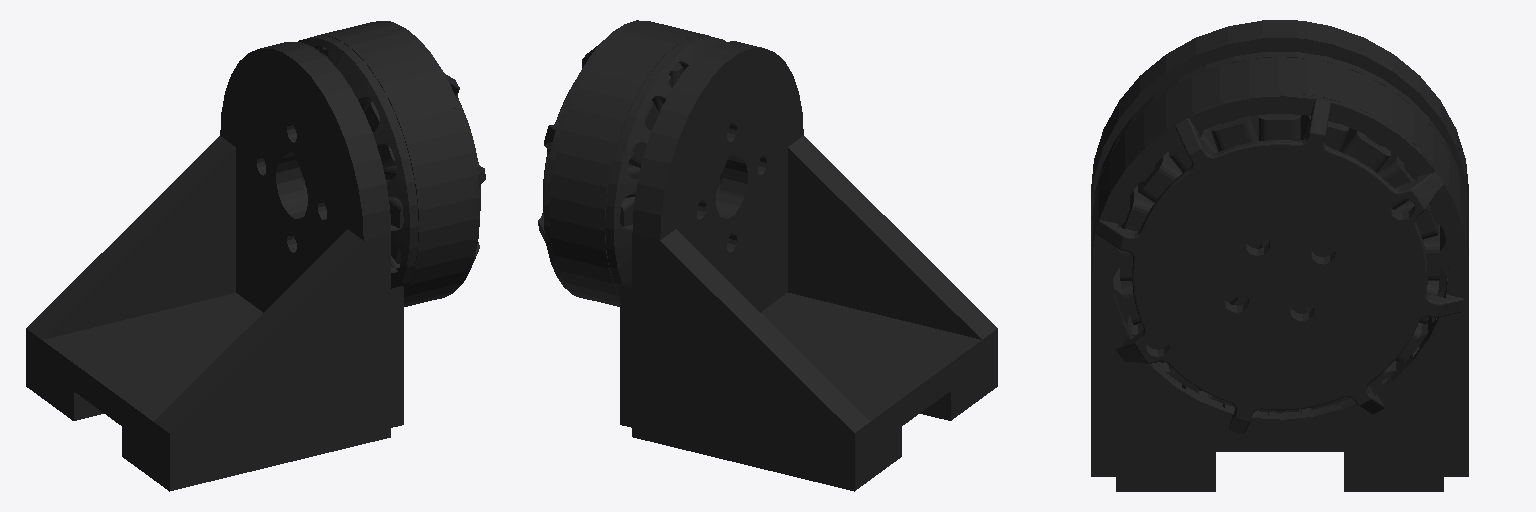
The robot description file, URDF, robot "allegro_hand_right":
<?xml version="1.0" ?>
<!-- =================================================================================== -->
<!-- |    This document was autogenerated by xacro from allegro_hand_description_right.xacro | -->
<!-- |    EDITING THIS FILE BY HAND IS NOT RECOMMENDED                                 | -->
<!-- =================================================================================== -->
<robot name="allegro_hand_right" xmlns:xacro="http://www.ros.org/wiki/xacro">
  <!-- ======================== BASE PARAMS ========================= -->
  <!-- ======================== FINGER PARAMS ======================== -->
  <!-- full height from joint to tip. when used,
    the radius of the finger tip sphere will be subtracted
    and one fixed link will be added for the tip. -->
  <!-- ========================= THUMB PARAMS ========================= -->
  <!-- ========================= LIMITS ========================= -->
  <!-- ============================================================================= -->
  <!-- PALM -->
  <link name="palm_link">
    <visual>
      <geometry>
        <mesh filename="package://example-robot-data/robots/allegro_hand_description/meshes/base_link.STL"/>
      </geometry>
      <origin rpy="0 0 0" xyz="0 0 0 "/>
      <material name="black">
        <color rgba="0.2 0.2 0.2 1"/>
      </material>
    </visual>
    <collision>
      <origin rpy="0 0 0" xyz="-0.009300 0 -0.0475"/>
      <geometry>
        <box size="0.0408 0.1130 0.095"/>
      </geometry>
    </collision>
    <inertial>
      <origin rpy="0 0 0" xyz="0 0 0.0475"/>
      <mass value="0.4154"/>
      <inertia ixx="1e-4" ixy="0.0" ixz="0.0" iyy="1e-4" iyz="0.0" izz="1e-4"/>
    </inertial>
  </link>
  <!-- ============================================================================= -->
  <!-- FINGERS -->
  <!-- RIGHT HAND due to which finger is number 0 -->
  <!-- for LEFT HAND switch the sign of the **offset_origin_y** and **finger_angle_r** parameters-->
  <!-- [LINK 0, 4, 8] -->
  <link name="link_0.0">
    <visual>
      <geometry>
        <mesh filename="package://example-robot-data/robots/allegro_hand_description/meshes/link_0.0.STL"/>
      </geometry>
      <material name="black"/>
    </visual>
    <collision>
      <geometry>
        <box size="0.0196 0.0275 0.0164"/>
      </geometry>
      <origin rpy="0 0 0" xyz="0 0 0.0082"/>
    </collision>
    <inertial>
      <mass value="0.0119"/>
      <origin rpy="0 0 0" xyz="0 0 0"/>
      <inertia ixx="1.01666658333e-06" ixy="0.0" ixz="0.0" iyy="6.47677333333e-07" iyz="0.0" izz="1.01666658333e-06"/>
    </inertial>
  </link>
  <joint name="joint_0.0" type="revolute">
    <axis xyz="0 0 1"/>
    <limit effort="15" lower="-0.47" upper="0.47" velocity="7"/>
    <parent link="palm_link"/>
    <child link="link_0.0"/>
    <origin rpy="-0.08726646255 0 0" xyz="0 0.0435 -0.001542"/>
    <dynamics damping="3" friction="10"/>
  </joint>
  <!-- [LINK 1, 5, 9] -->
  <link name="link_1.0">
    <visual>
      <geometry>
        <mesh filename="package://example-robot-data/robots/allegro_hand_description/meshes/link_1.0.STL"/>
      </geometry>
      <material name="black"/>
    </visual>
    <collision>
      <geometry>
        <box size="0.0196 0.0275 0.054"/>
      </geometry>
      <origin rpy="0 0 0" xyz="0 0 0.027"/>
    </collision>
    <inertial>
      <mass value="0.065"/>
      <origin rpy="0 0 0" xyz="0 0 0"/>
      <inertia ixx="7.95654166667e-05" ixy="1.7199e-05" ixz="8.75875e-06" iyy="2.47088833333e-05" iyz="2.413125e-05" izz="7.95654166667e-05"/>
    </inertial>
  </link>
  <joint name="joint_1.0" type="revolute">
    <limit effort="15" lower="-0.196" upper="1.61" velocity="7"/>
    <axis xyz="0 1 0"/>
    <parent link="link_0.0"/>
    <child link="link_1.0"/>
    <origin xyz="0 0 0.0164"/>
    <dynamics damping="3" friction="5"/>
  </joint>
  <!-- [LINK 2, 6, 10]-->
  <link name="link_2.0">
    <visual>
      <geometry>
        <mesh filename="package://example-robot-data/robots/allegro_hand_description/meshes/link_2.0.STL"/>
      </geometry>
      <material name="black"/>
    </visual>
    <collision>
      <geometry>
        <box size="0.0196 0.0275 0.0384"/>
      </geometry>
      <origin rpy="0 0 0" xyz="0 0 0.0192"/>
    </collision>
    <inertial>
      <mass value="0.0355"/>
      <origin rpy="0 0 0" xyz="0 0 0"/>
      <inertia ixx="2.63979183333e-05" ixy="6.67968e-06" ixz="4.783625e-06" iyy="1.34948516667e-05" iyz="9.372e-06" izz="2.63979183333e-05"/>
    </inertial>
  </link>
  <joint name="joint_2.0" type="revolute">
    <axis xyz="0 1 0"/>
    <limit effort="15" lower="-0.174" upper="1.709" velocity="7"/>
    <parent link="link_1.0"/>
    <child link="link_2.0"/>
    <origin xyz="0 0 0.054"/>
    <dynamics damping="8" friction="10"/>
  </joint>
  <!-- [LINK 3, 7, 11] -->
  <link name="link_3.0">
    <visual>
      <geometry>
        <mesh filename="package://example-robot-data/robots/allegro_hand_description/meshes/link_3.0.STL"/>
      </geometry>
      <material name="black"/>
    </visual>
    <collision>
      <geometry>
        <box size="0.0196 0.0275 0.0267"/>
      </geometry>
      <origin rpy="0 0 0" xyz="0 0 0.01335"/>
    </collision>
    <inertial>
      <mass value="0.0096"/>
      <origin rpy="0 0 0" xyz="0 0 0"/>
      <inertia ixx="4.701248e-06" ixy="1.255968e-06" ixz="1.2936e-06" iyy="3.649312e-06" iyz="1.7622e-06" izz="4.701248e-06"/>
    </inertial>
  </link>
  <joint name="joint_3.0" type="revolute">
    <axis xyz="0 1 0"/>
    <limit effort="15" lower="-0.227" upper="1.618" velocity="7"/>
    <parent link="link_2.0"/>
    <child link="link_3.0"/>
    <origin xyz="0 0 0.0384"/>
    <dynamics damping="10" friction="12"/>
  </joint>
  <!-- [FINGER TIP] -->
  <link name="link_3.0_tip">
    <visual>
      <geometry>
        <mesh filename="package://example-robot-data/robots/allegro_hand_description/meshes/link_3.0_tip.STL"/>
      </geometry>
      <material name="white">
        <color rgba=".9 .9 .9 1"/>
      </material>
    </visual>
    <collision>
      <geometry>
        <sphere radius="0.012"/>
      </geometry>
    </collision>
    <inertial>
      <mass value="0.0168"/>
      <origin rpy="0 0 0" xyz="0 0 0"/>
      <inertia ixx="9.68e-07" ixy="0" ixz="0" iyy="9.68e-07" iyz="0" izz="9.68e-07"/>
    </inertial>
  </link>
  <joint name="joint_3.0_tip" type="fixed">
    <parent link="link_3.0"/>
    <child link="link_3.0_tip"/>
    <origin rpy="0 0 0" xyz="0 0 0.0267"/>
  </joint>
  <!-- [LINK 0, 4, 8] -->
  <link name="link_4.0">
    <visual>
      <geometry>
        <mesh filename="package://example-robot-data/robots/allegro_hand_description/meshes/link_0.0.STL"/>
      </geometry>
      <material name="black"/>
    </visual>
    <collision>
      <geometry>
        <box size="0.0196 0.0275 0.0164"/>
      </geometry>
      <origin rpy="0 0 0" xyz="0 0 0.0082"/>
    </collision>
    <inertial>
      <mass value="0.0119"/>
      <origin rpy="0 0 0" xyz="0 0 0"/>
      <inertia ixx="1.01666658333e-06" ixy="0.0" ixz="0.0" iyy="6.47677333333e-07" iyz="0.0" izz="1.01666658333e-06"/>
    </inertial>
  </link>
  <joint name="joint_4.0" type="revolute">
    <axis xyz="0 0 1"/>
    <limit effort="15" lower="-0.47" upper="0.47" velocity="7"/>
    <parent link="palm_link"/>
    <child link="link_4.0"/>
    <origin rpy="0.0 0 0" xyz="0 0 0.0007"/>
    <dynamics damping="3" friction="10"/>
  </joint>
  <!-- [LINK 1, 5, 9] -->
  <link name="link_5.0">
    <visual>
      <geometry>
        <mesh filename="package://example-robot-data/robots/allegro_hand_description/meshes/link_1.0.STL"/>
      </geometry>
      <material name="black"/>
    </visual>
    <collision>
      <geometry>
        <box size="0.0196 0.0275 0.054"/>
      </geometry>
      <origin rpy="0 0 0" xyz="0 0 0.027"/>
    </collision>
    <inertial>
      <mass value="0.065"/>
      <origin rpy="0 0 0" xyz="0 0 0"/>
      <inertia ixx="7.95654166667e-05" ixy="1.7199e-05" ixz="8.75875e-06" iyy="2.47088833333e-05" iyz="2.413125e-05" izz="7.95654166667e-05"/>
    </inertial>
  </link>
  <joint name="joint_5.0" type="revolute">
    <limit effort="15" lower="-0.196" upper="1.61" velocity="7"/>
    <axis xyz="0 1 0"/>
    <parent link="link_4.0"/>
    <child link="link_5.0"/>
    <origin xyz="0 0 0.0164"/>
    <dynamics damping="3" friction="5"/>
  </joint>
  <!-- [LINK 2, 6, 10]-->
  <link name="link_6.0">
    <visual>
      <geometry>
        <mesh filename="package://example-robot-data/robots/allegro_hand_description/meshes/link_2.0.STL"/>
      </geometry>
      <material name="black"/>
    </visual>
    <collision>
      <geometry>
        <box size="0.0196 0.0275 0.0384"/>
      </geometry>
      <origin rpy="0 0 0" xyz="0 0 0.0192"/>
    </collision>
    <inertial>
      <mass value="0.0355"/>
      <origin rpy="0 0 0" xyz="0 0 0"/>
      <inertia ixx="2.63979183333e-05" ixy="6.67968e-06" ixz="4.783625e-06" iyy="1.34948516667e-05" iyz="9.372e-06" izz="2.63979183333e-05"/>
    </inertial>
  </link>
  <joint name="joint_6.0" type="revolute">
    <axis xyz="0 1 0"/>
    <limit effort="15" lower="-0.174" upper="1.709" velocity="7"/>
    <parent link="link_5.0"/>
    <child link="link_6.0"/>
    <origin xyz="0 0 0.054"/>
    <dynamics damping="8" friction="10"/>
  </joint>
  <!-- [LINK 3, 7, 11] -->
  <link name="link_7.0">
    <visual>
      <geometry>
        <mesh filename="package://example-robot-data/robots/allegro_hand_description/meshes/link_3.0.STL"/>
      </geometry>
      <material name="black"/>
    </visual>
    <collision>
      <geometry>
        <box size="0.0196 0.0275 0.0267"/>
      </geometry>
      <origin rpy="0 0 0" xyz="0 0 0.01335"/>
    </collision>
    <inertial>
      <mass value="0.0096"/>
      <origin rpy="0 0 0" xyz="0 0 0"/>
      <inertia ixx="4.701248e-06" ixy="1.255968e-06" ixz="1.2936e-06" iyy="3.649312e-06" iyz="1.7622e-06" izz="4.701248e-06"/>
    </inertial>
  </link>
  <joint name="joint_7.0" type="revolute">
    <axis xyz="0 1 0"/>
    <limit effort="15" lower="-0.227" upper="1.618" velocity="7"/>
    <parent link="link_6.0"/>
    <child link="link_7.0"/>
    <origin xyz="0 0 0.0384"/>
    <dynamics damping="10" friction="12"/>
  </joint>
  <!-- [FINGER TIP] -->
  <link name="link_7.0_tip">
    <visual>
      <geometry>
        <mesh filename="package://example-robot-data/robots/allegro_hand_description/meshes/link_3.0_tip.STL"/>
      </geometry>
      <material name="white">
        <color rgba=".9 .9 .9 1"/>
      </material>
    </visual>
    <collision>
      <geometry>
        <sphere radius="0.012"/>
      </geometry>
    </collision>
    <inertial>
      <mass value="0.0168"/>
      <origin rpy="0 0 0" xyz="0 0 0"/>
      <inertia ixx="9.68e-07" ixy="0" ixz="0" iyy="9.68e-07" iyz="0" izz="9.68e-07"/>
    </inertial>
  </link>
  <joint name="joint_7.0_tip" type="fixed">
    <parent link="link_7.0"/>
    <child link="link_7.0_tip"/>
    <origin rpy="0 0 0" xyz="0 0 0.0267"/>
  </joint>
  <!-- [LINK 0, 4, 8] -->
  <link name="link_8.0">
    <visual>
      <geometry>
        <mesh filename="package://example-robot-data/robots/allegro_hand_description/meshes/link_0.0.STL"/>
      </geometry>
      <material name="black"/>
    </visual>
    <collision>
      <geometry>
        <box size="0.0196 0.0275 0.0164"/>
      </geometry>
      <origin rpy="0 0 0" xyz="0 0 0.0082"/>
    </collision>
    <inertial>
      <mass value="0.0119"/>
      <origin rpy="0 0 0" xyz="0 0 0"/>
      <inertia ixx="1.01666658333e-06" ixy="0.0" ixz="0.0" iyy="6.47677333333e-07" iyz="0.0" izz="1.01666658333e-06"/>
    </inertial>
  </link>
  <joint name="joint_8.0" type="revolute">
    <axis xyz="0 0 1"/>
    <limit effort="15" lower="-0.47" upper="0.47" velocity="7"/>
    <parent link="palm_link"/>
    <child link="link_8.0"/>
    <origin rpy="0.08726646255 0 0" xyz="0 -0.0435 -0.001542"/>
    <dynamics damping="3" friction="10"/>
  </joint>
  <!-- [LINK 1, 5, 9] -->
  <link name="link_9.0">
    <visual>
      <geometry>
        <mesh filename="package://example-robot-data/robots/allegro_hand_description/meshes/link_1.0.STL"/>
      </geometry>
      <material name="black"/>
    </visual>
    <collision>
      <geometry>
        <box size="0.0196 0.0275 0.054"/>
      </geometry>
      <origin rpy="0 0 0" xyz="0 0 0.027"/>
    </collision>
    <inertial>
      <mass value="0.065"/>
      <origin rpy="0 0 0" xyz="0 0 0"/>
      <inertia ixx="7.95654166667e-05" ixy="1.7199e-05" ixz="8.75875e-06" iyy="2.47088833333e-05" iyz="2.413125e-05" izz="7.95654166667e-05"/>
    </inertial>
  </link>
  <joint name="joint_9.0" type="revolute">
    <limit effort="15" lower="-0.196" upper="1.61" velocity="7"/>
    <axis xyz="0 1 0"/>
    <parent link="link_8.0"/>
    <child link="link_9.0"/>
    <origin xyz="0 0 0.0164"/>
    <dynamics damping="3" friction="5"/>
  </joint>
  <!-- [LINK 2, 6, 10]-->
  <link name="link_10.0">
    <visual>
      <geometry>
        <mesh filename="package://example-robot-data/robots/allegro_hand_description/meshes/link_2.0.STL"/>
      </geometry>
      <material name="black"/>
    </visual>
    <collision>
      <geometry>
        <box size="0.0196 0.0275 0.0384"/>
      </geometry>
      <origin rpy="0 0 0" xyz="0 0 0.0192"/>
    </collision>
    <inertial>
      <mass value="0.0355"/>
      <origin rpy="0 0 0" xyz="0 0 0"/>
      <inertia ixx="2.63979183333e-05" ixy="6.67968e-06" ixz="4.783625e-06" iyy="1.34948516667e-05" iyz="9.372e-06" izz="2.63979183333e-05"/>
    </inertial>
  </link>
  <joint name="joint_10.0" type="revolute">
    <axis xyz="0 1 0"/>
    <limit effort="15" lower="-0.174" upper="1.709" velocity="7"/>
    <parent link="link_9.0"/>
    <child link="link_10.0"/>
    <origin xyz="0 0 0.054"/>
    <dynamics damping="8" friction="10"/>
  </joint>
  <!-- [LINK 3, 7, 11] -->
  <link name="link_11.0">
    <visual>
      <geometry>
        <mesh filename="package://example-robot-data/robots/allegro_hand_description/meshes/link_3.0.STL"/>
      </geometry>
      <material name="black"/>
    </visual>
    <collision>
      <geometry>
        <box size="0.0196 0.0275 0.0267"/>
      </geometry>
      <origin rpy="0 0 0" xyz="0 0 0.01335"/>
    </collision>
    <inertial>
      <mass value="0.0096"/>
      <origin rpy="0 0 0" xyz="0 0 0"/>
      <inertia ixx="4.701248e-06" ixy="1.255968e-06" ixz="1.2936e-06" iyy="3.649312e-06" iyz="1.7622e-06" izz="4.701248e-06"/>
    </inertial>
  </link>
  <joint name="joint_11.0" type="revolute">
    <axis xyz="0 1 0"/>
    <limit effort="15" lower="-0.227" upper="1.618" velocity="7"/>
    <parent link="link_10.0"/>
    <child link="link_11.0"/>
    <origin xyz="0 0 0.0384"/>
    <dynamics damping="10" friction="12"/>
  </joint>
  <!-- [FINGER TIP] -->
  <link name="link_11.0_tip">
    <visual>
      <geometry>
        <mesh filename="package://example-robot-data/robots/allegro_hand_description/meshes/link_3.0_tip.STL"/>
      </geometry>
      <material name="white">
        <color rgba=".9 .9 .9 1"/>
      </material>
    </visual>
    <collision>
      <geometry>
        <sphere radius="0.012"/>
      </geometry>
    </collision>
    <inertial>
      <mass value="0.0168"/>
      <origin rpy="0 0 0" xyz="0 0 0"/>
      <inertia ixx="9.68e-07" ixy="0" ixz="0" iyy="9.68e-07" iyz="0" izz="9.68e-07"/>
    </inertial>
  </link>
  <joint name="joint_11.0_tip" type="fixed">
    <parent link="link_11.0"/>
    <child link="link_11.0_tip"/>
    <origin rpy="0 0 0" xyz="0 0 0.0267"/>
  </joint>
  <!-- THUMB -->
  <!-- [LINK 12] -->
  <link name="link_12.0">
    <visual>
      <geometry>
        <mesh filename="package://example-robot-data/robots/allegro_hand_description/meshes/link_12.0_right.STL"/>
      </geometry>
      <material name="black">
        <color rgba=".2 .2 .2 1"/>
      </material>
      <origin rpy="3.1415926518 0 0" xyz="0 0 0"/>
    </visual>
    <collision>
      <geometry>
        <box size="0.0358 0.034 0.0455"/>
      </geometry>
      <origin rpy="0 0 0" xyz="-0.0179 0.009 0.0145"/>
    </collision>
    <inertial>
      <mass value="0.0176"/>
      <origin rpy="0 0 0" xyz="0 0 0"/>
      <inertia ixx="1.89273333333e-5" ixy="7.16716e-06" ixz="5.35568e-06" iyy="1.43008213333e-05" iyz="6.8068e-06" izz="1.89273333333e-05"/>
    </inertial>
  </link>
  <joint name="joint_12.0" type="revolute">
    <axis xyz="-1 0 0"/>
    <limit effort="15" lower="0.263" upper="1.396" velocity="7"/>
    <parent link="palm_link"/>
    <child link="link_12.0"/>
    <origin rpy="0 -1.65806278845 -1.5707963259" xyz="-0.0182 0.019333 -0.045987"/>
    <dynamics damping="3" friction="10"/>
  </joint>
  <!-- [LINK 13] -->
  <link name="link_13.0">
    <visual>
      <geometry>
        <mesh filename="package://example-robot-data/robots/allegro_hand_description/meshes/link_13.0.STL"/>
      </geometry>
      <material name="black">
        <color rgba=".2 .2 .2 1"/>
      </material>
    </visual>
    <collision>
      <geometry>
        <box size="0.0196 0.0275 0.0177"/>
      </geometry>
      <origin rpy="0 0 0" xyz="0 0 0.00885"/>
    </collision>
    <inertial>
      <mass value="0.0119"/>
      <origin rpy="0 0 0" xyz="0 0 0"/>
      <inertia ixx="4.24250866667e-06" ixy="1.032087e-06" ixz="1.603525e-06" iyy="4.52362633333e-06" iyz="1.44808125e-06" izz="4.24250866667e-06"/>
    </inertial>
  </link>
  <joint name="joint_13.0" type="revolute">
    <axis xyz="0 0 1"/>
    <limit effort="15" lower="-0.105" upper="1.163" velocity="7"/>
    <parent link="link_12.0"/>
    <child link="link_13.0"/>
    <origin xyz="-0.027 0.005 0.0399"/>
    <dynamics damping="3" friction="5"/>
  </joint>
  <!-- [LINK 14] -->
  <link name="link_14.0">
    <visual>
      <geometry>
        <mesh filename="package://example-robot-data/robots/allegro_hand_description/meshes/link_14.0.STL"/>
      </geometry>
      <material name="black">
                </material>
    </visual>
    <collision>
      <geometry>
        <box size="0.0196 0.0275 0.0514"/>
      </geometry>
      <origin rpy="0 0 0" xyz="0 0 0.0257"/>
    </collision>
    <inertial>
      <mass value="0.038"/>
      <origin rpy="0 0 0" xyz="0 0 0"/>
      <inertia ixx="4.30439933333e-05" ixy="9.57068e-06" ixz="5.1205e-06" iyy="1.44451933333e-05" iyz="1.342825e-05" izz="4.30439933333e-05"/>
    </inertial>
  </link>
  <joint name="joint_14.0" type="revolute">
    <axis xyz="0 1 0"/>
    <limit effort="15" lower="-0.189" upper="1.644" velocity="7"/>
    <parent link="link_13.0"/>
    <child link="link_14.0"/>
    <origin xyz="0 0 0.0177"/>
    <dynamics damping="3" friction="10"/>
  </joint>
  <!-- [LINK 15] -->
  <link name="link_15.0">
    <visual>
      <geometry>
        <mesh filename="package://example-robot-data/robots/allegro_hand_description/meshes/link_15.0.STL"/>
      </geometry>
      <material name="black">
                </material>
    </visual>
    <collision>
      <geometry>
        <box size="0.0196 0.0275 0.0423"/>
      </geometry>
      <origin rpy="0 0 0" xyz="0 0 0.02115"/>
    </collision>
    <inertial>
      <mass value="0.0388"/>
      <origin rpy="0 0 0" xyz="0 0 0"/>
      <inertia ixx="3.29223173333e-05" ixy="8.042076e-06" ixz="5.2283e-06" iyy="1.47493026667e-5" iyz="1.1283525e-5" izz="3.29223173333e-05"/>
    </inertial>
  </link>
  <joint name="joint_15.0" type="revolute">
    <axis xyz="0 1 0"/>
    <limit effort="15" lower="-0.162" upper="1.719" velocity="7"/>
    <parent link="link_14.0"/>
    <child link="link_15.0"/>
    <origin xyz="0 0 0.0514"/>
    <dynamics damping="3" friction="12"/>
  </joint>
  <!-- [FINGER TIP] -->
  <link name="link_15.0_tip">
    <visual>
      <geometry>
        <mesh filename="package://example-robot-data/robots/allegro_hand_description/meshes/link_15.0_tip.STL"/>
      </geometry>
      <material name="white">
        <color rgba=".9 .9 .9 1"/>
      </material>
    </visual>
    <collision>
      <geometry>
        <sphere radius="0.012"/>
      </geometry>
      <origin rpy="0 0 0" xyz="0 0 0"/>
    </collision>
    <inertial>
      <mass value="0.0168"/>
      <origin rpy="0 0 0" xyz="0 0 0"/>
      <inertia ixx="9.68e-07" ixy="0" ixz="0" iyy="9.68e-07" iyz="0" izz="9.68e-07"/>
    </inertial>
  </link>
  <joint name="joint_15.0_tip" type="fixed">
    <parent link="link_15.0"/>
    <child link="link_15.0_tip"/>
    <origin rpy="0 0 0" xyz="0 0 0.0423"/>
  </joint>
  <!-- ============================================================================= -->
  <!-- THUMB MACRO -->
  <!-- END THUMB MACRO -->
  <!-- THREE FINGER MACRO -->
  <!-- [[END]] THREE FINGER MACRO -->
</robot>

--- Render facts (derived) ---
The picture shows the robot from 3 angles, left to right: view 1: azimuth 30°, elevation 25°; view 2: azimuth 150°, elevation 25°; view 3: azimuth 270°, elevation 25°; orthographic projection.
Model allegro_hand_right with 21 links and 20 joints (16 revolute, 4 fixed), rooted at palm_link, posed joints at zero except 1 at the middle of their limits (joint_12.0 = 0.8295).
Visible links, largest first — view 1: palm_link; view 2: palm_link; view 3: palm_link.
Boxes of the visible links, x1=… form: palm_link: x1=26, y1=21, x2=485, y2=491; palm_link: x1=538, y1=20, x2=997, y2=491; palm_link: x1=1091, y1=20, x2=1468, y2=491.
Bounding box of the posed robot: 0.0591 × 0.0448 × 0.0573 m (x, y, z).
1 mesh visuals loaded from 11 distinct referenced files (1 binary STL); not drawn: 20 (reference not matched to a file when rendering).